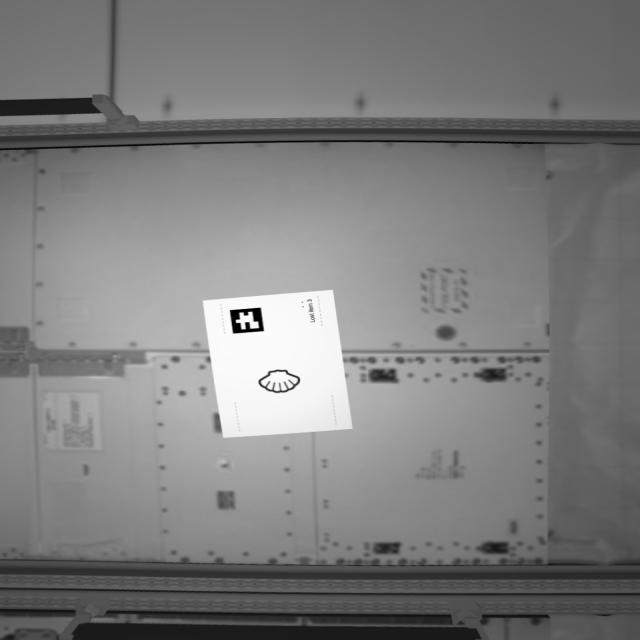shell: (253, 368, 310, 400)
